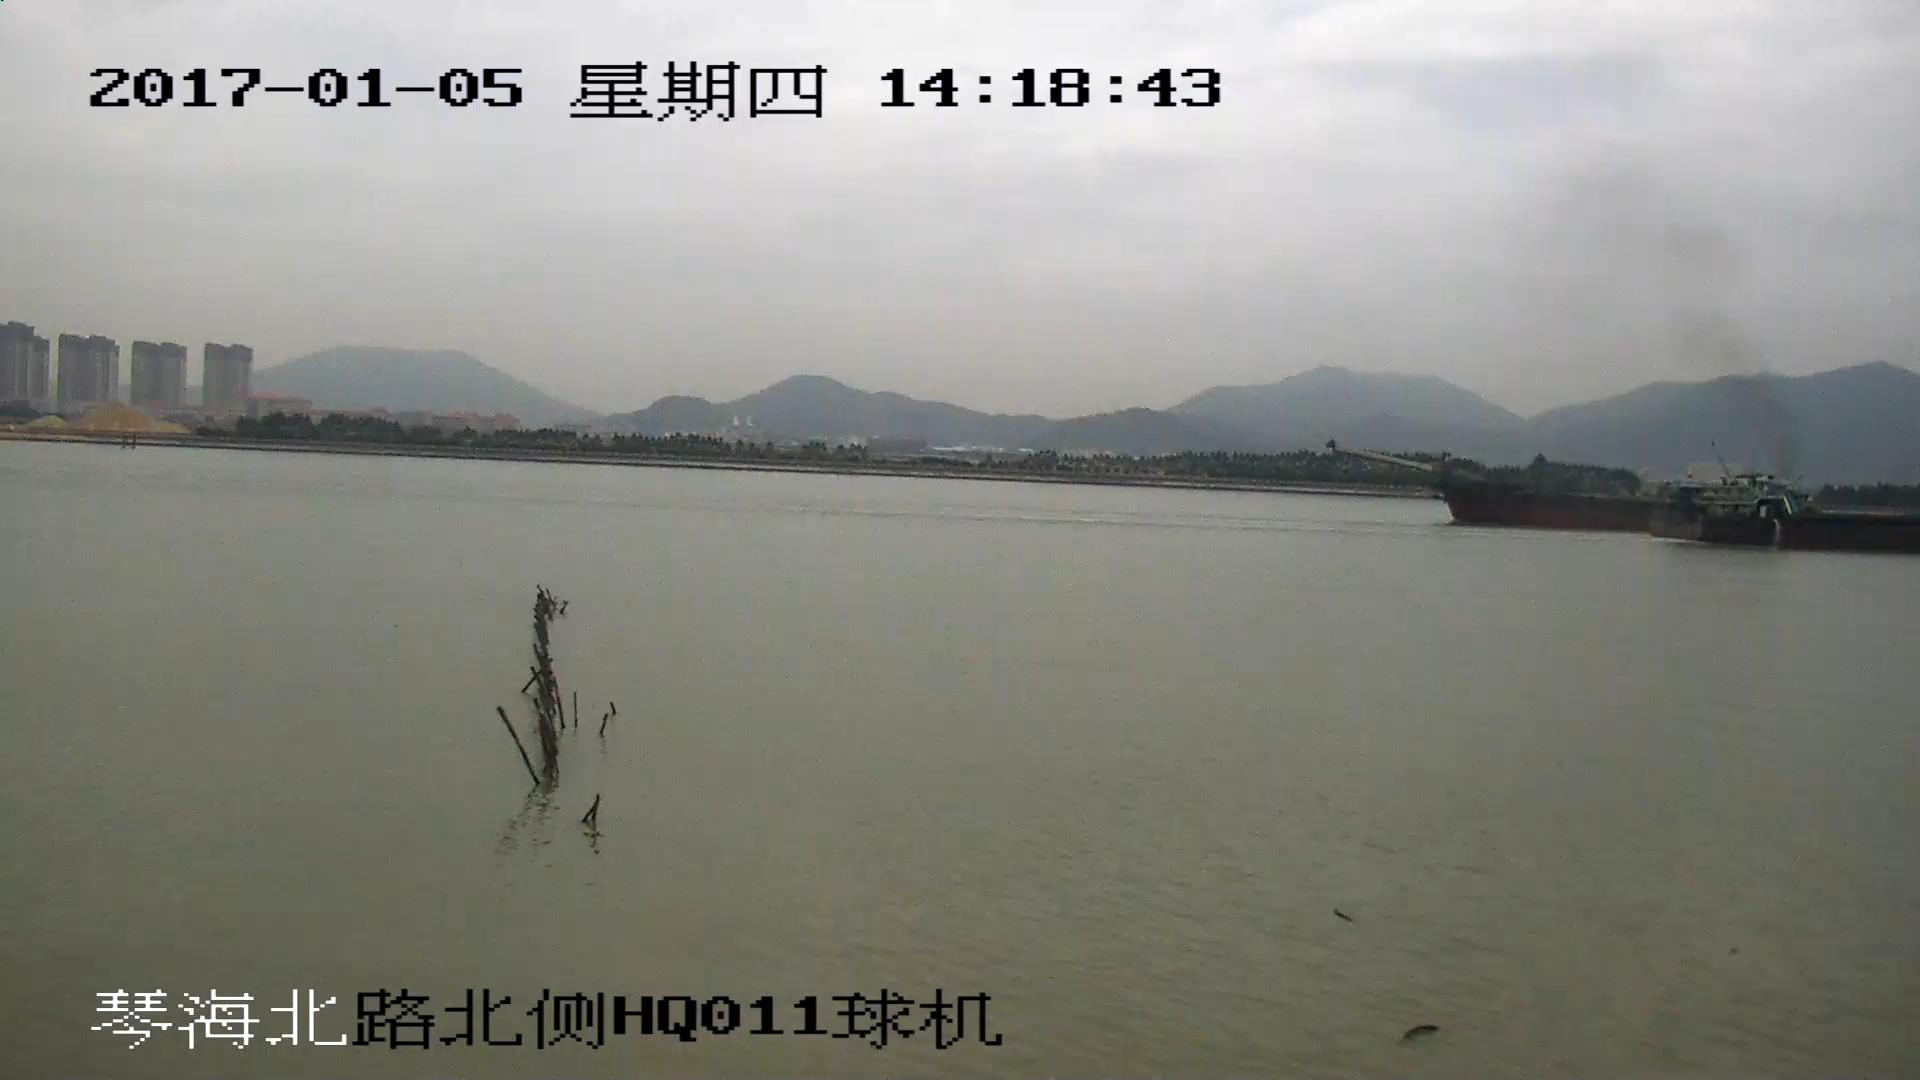Ship: (1327, 446, 1920, 550)
